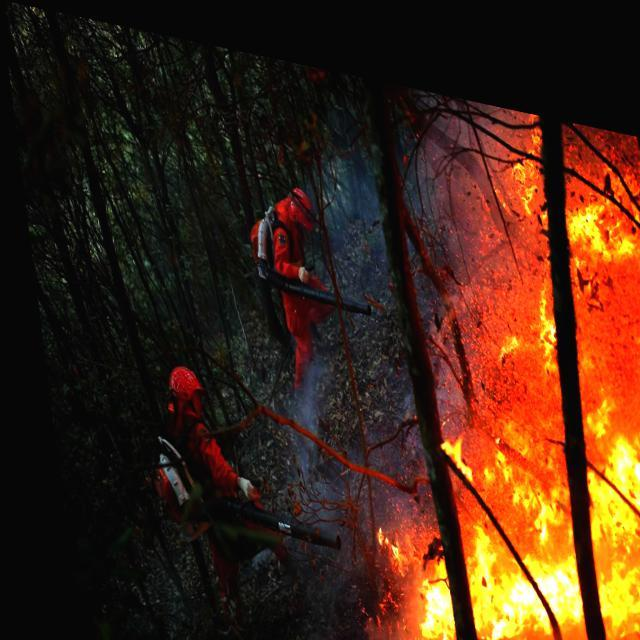Fire: (408, 152, 639, 639), (368, 507, 446, 639)
